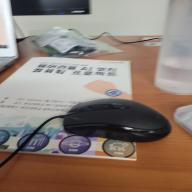Mouse: (62, 98, 172, 142)
